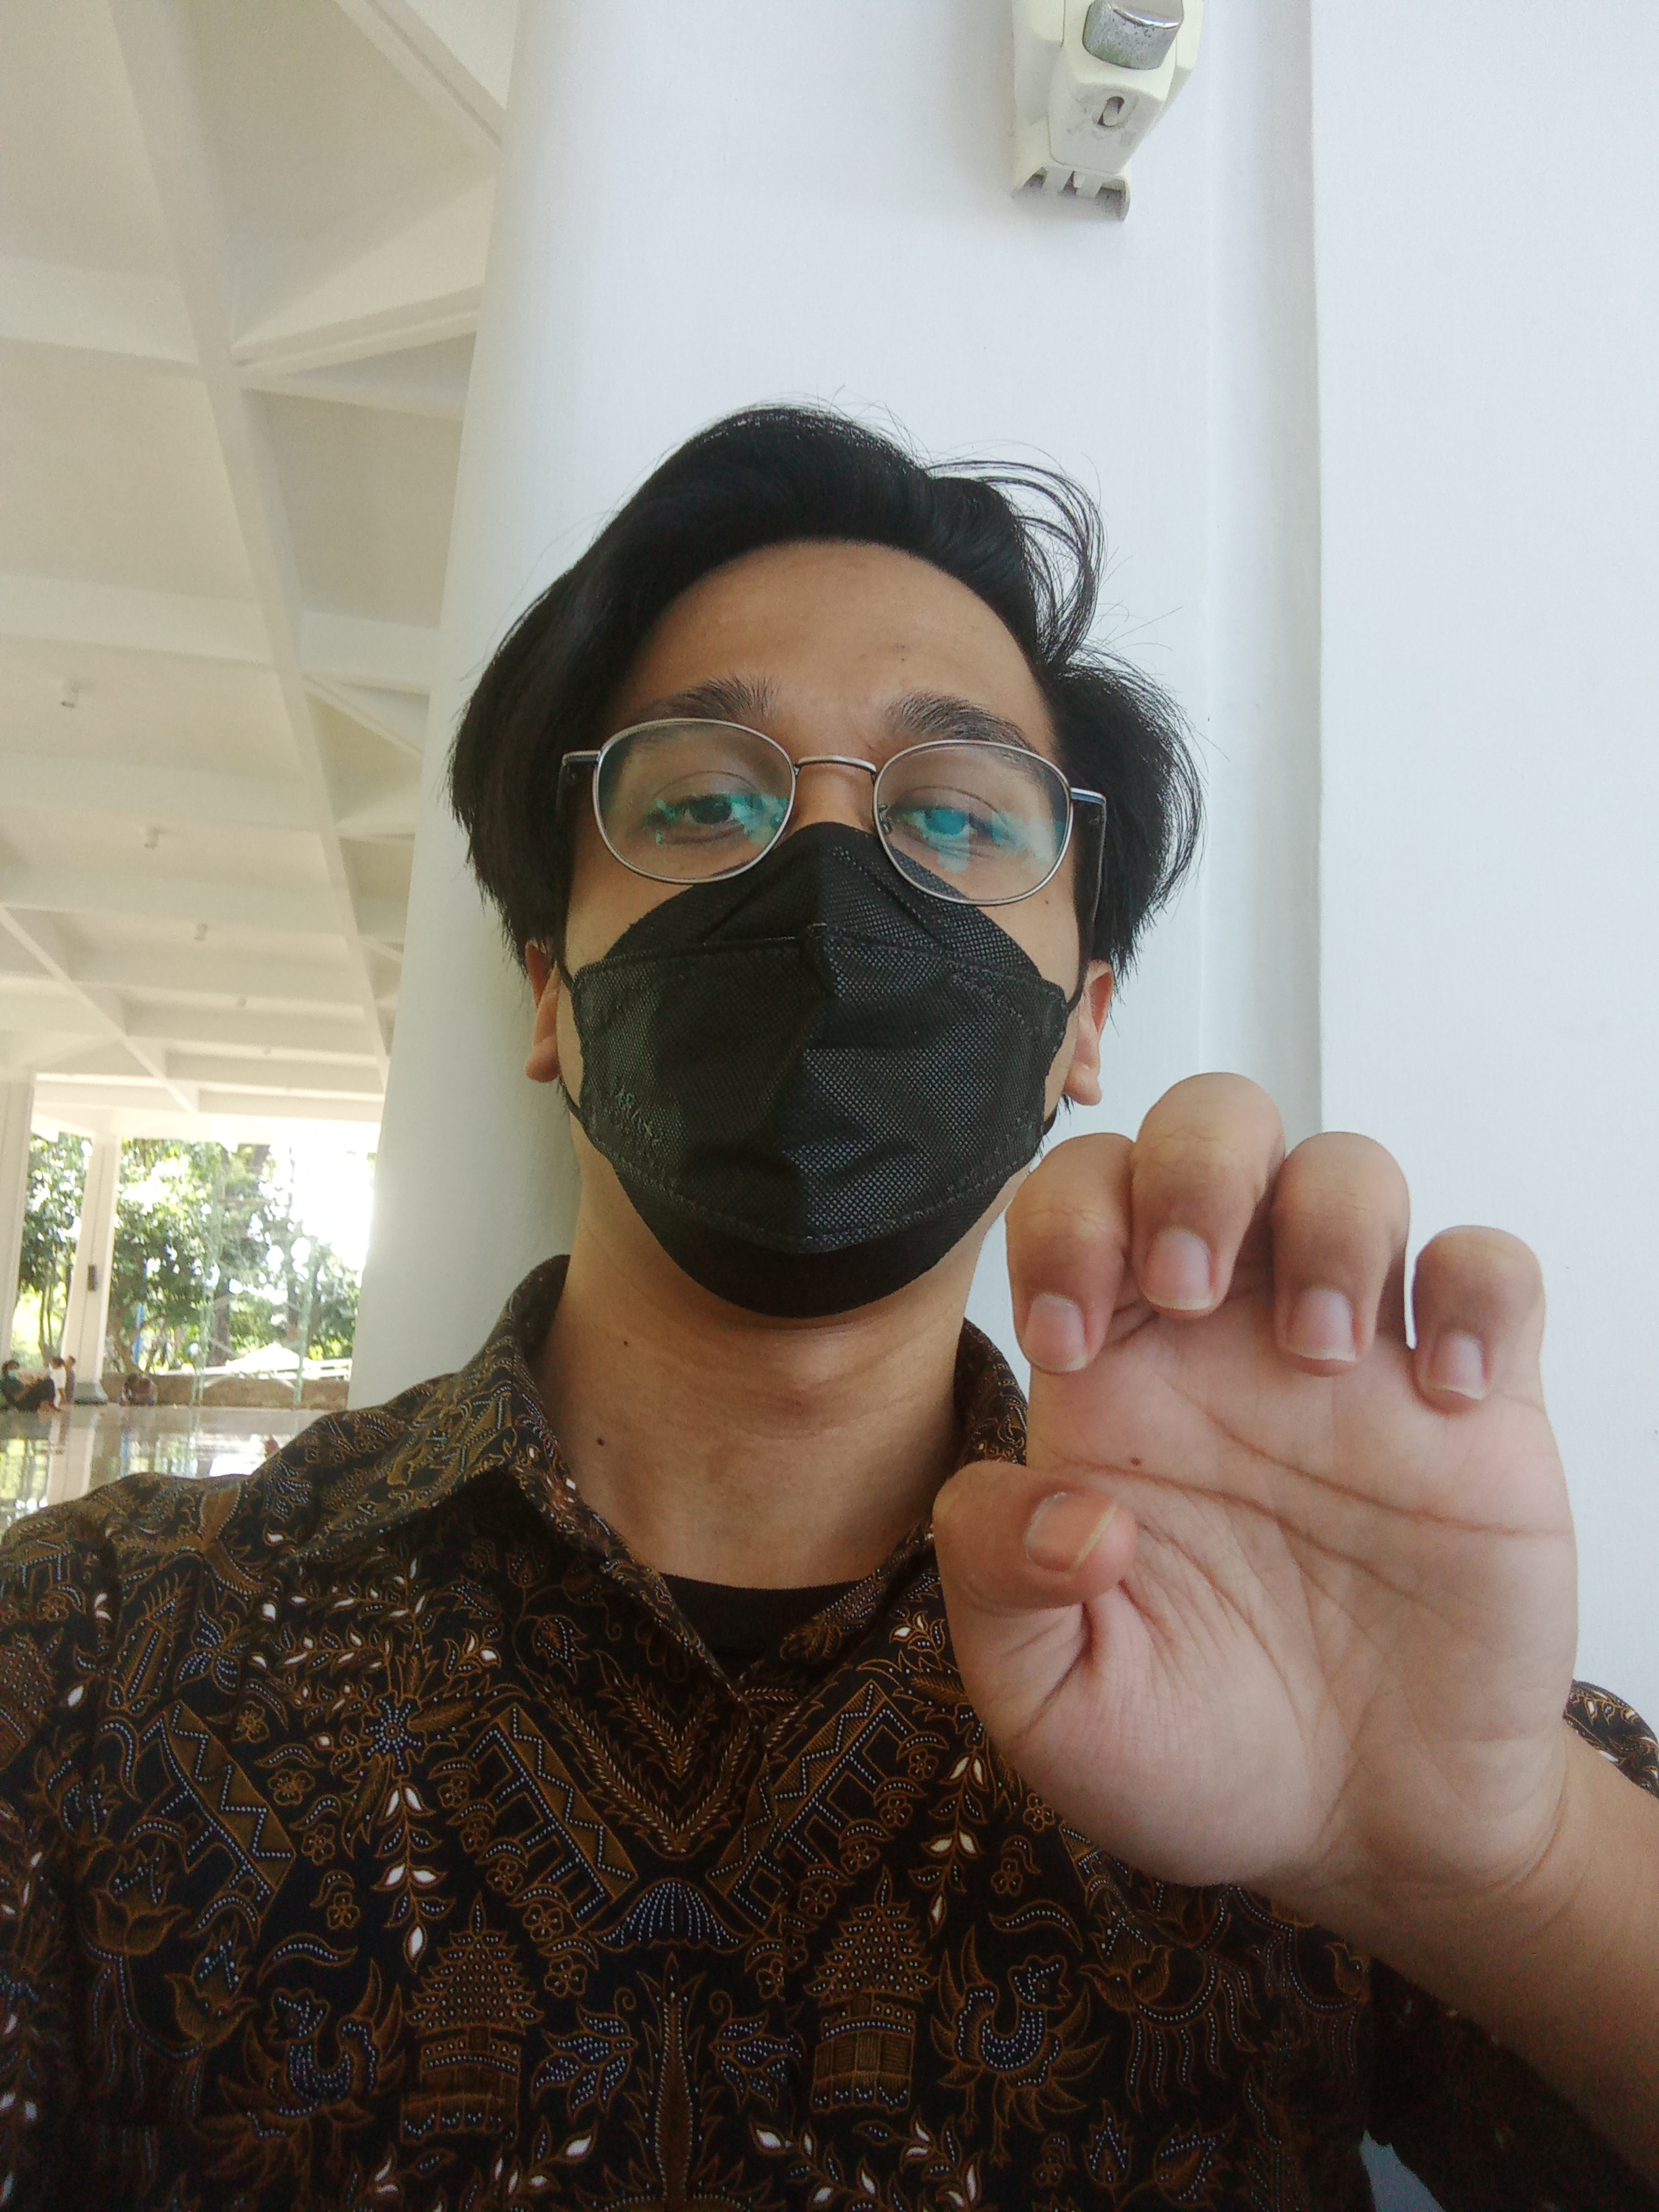E: (917, 1042, 1635, 1939)
